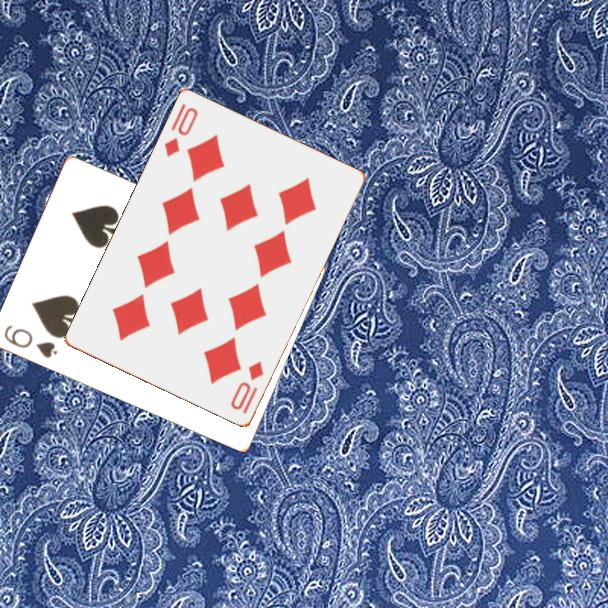d10: (161, 100, 201, 161), (227, 358, 267, 417)
s06: (1, 321, 61, 361)
